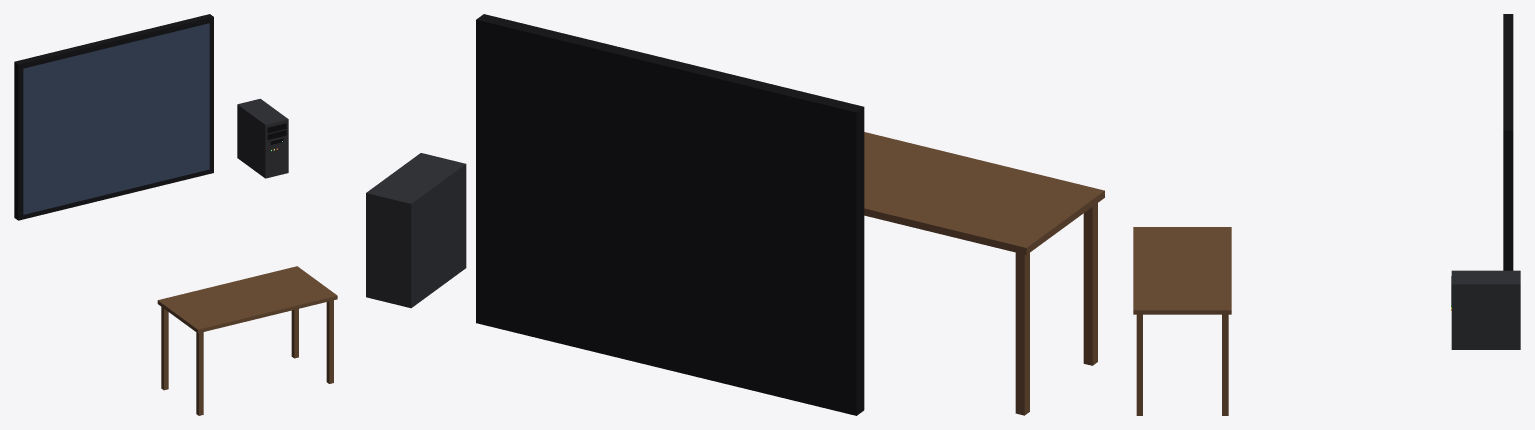
Rendered from test-room.glb.
3 renders of one model, left to right at view 1: azimuth 30°, elevation 25°; view 2: azimuth 150°, elevation 25°; view 3: azimuth 270°, elevation 25°, orthographic. The views are drawn at different scales.
Parts seen in each view (by area): view 1: screen, Desk top, Bezel, Tower, Desk leg 4, Desk leg 3, Desk leg 1, Desk leg 2; view 2: Bezel, Desk top, Tower, Desk leg 1, Desk leg 4; view 3: Desk top, Tower, Bezel, Desk leg 2, Desk leg 3.
Part boxes in pixels (x1,y1,x2,y2): screen: (23,23,209,214); Desk top: (157,266,337,333); Bezel: (14,14,213,220); Tower: (237,98,288,178); Desk leg 4: (196,332,203,415); Desk leg 3: (326,300,333,383); Desk leg 1: (161,307,168,390); Desk leg 2: (291,309,298,358); Bezel: (476,14,864,415); Desk top: (864,132,1104,254); Tower: (366,153,466,308); Desk leg 1: (1015,252,1029,415); Desk leg 4: (1083,203,1097,365); Desk top: (1133,227,1231,314); Tower: (1451,270,1520,349); Bezel: (1503,14,1513,270); Desk leg 2: (1222,314,1228,415); Desk leg 3: (1136,314,1142,415).
Size of what is drawn, in the model's own units: 2.14 by 2.04 by 2.36.
